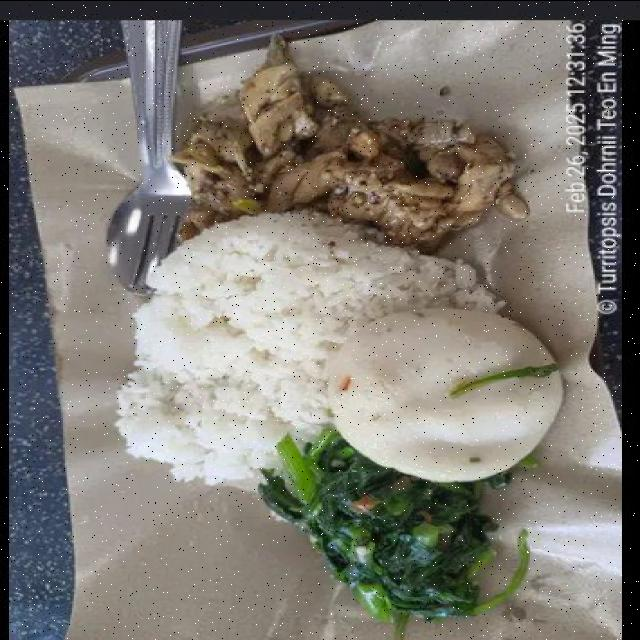Chicken: (173, 37, 526, 250)
Fish: (328, 308, 562, 481)
Green veg: (258, 428, 528, 639)
Rice: (117, 212, 503, 483)
